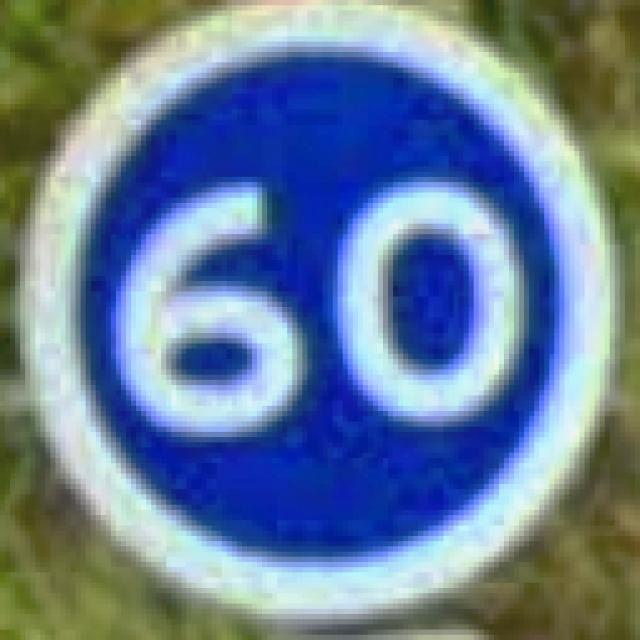min60: (10, 0, 625, 624)
